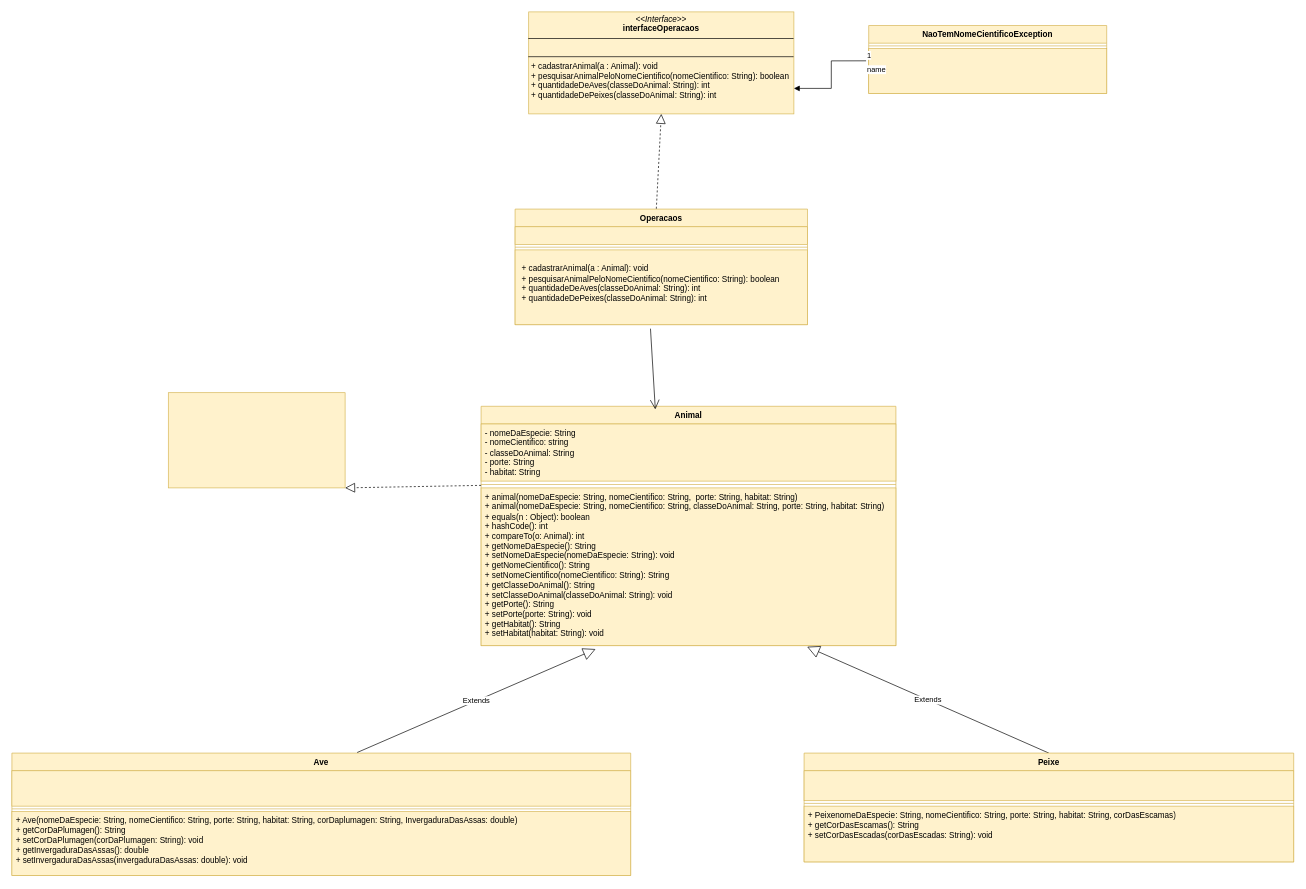
This 1306x889 diagram has some shape labels left out. Here are the shapes that lost their labels. From the top down, the centre of each, then its label:
At (x=987, y=71): "+ NaoTemNomeCientificoException(String msg): String msg".
At (x=661, y=235): "-animais: List<Animal>".
At (x=256, y=440): "<<Interface>> ComparasonDeAnimaisPeloNomeCientifico + compareTo(o: Animal): int".
At (x=321, y=788): "- corDaPlumagen: String - invergaduraDasAssas: double".
At (x=1048, y=785): "- corDasEscamas: String".
